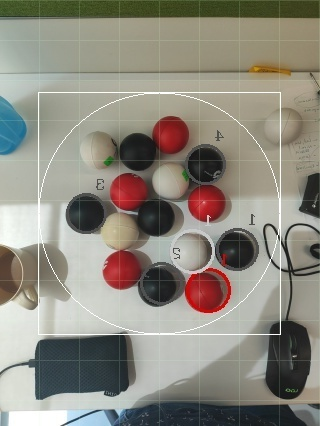Pelota blanca: (167, 230, 214, 272), (284, 222, 320, 275), (101, 209, 143, 251), (263, 105, 305, 147), (0, 95, 28, 158), (79, 129, 119, 171), (0, 244, 25, 307), (151, 161, 191, 200), (61, 409, 119, 425)
Pelota negra: (138, 260, 185, 307), (215, 225, 260, 272), (66, 190, 108, 235), (135, 198, 180, 238), (186, 142, 228, 184), (119, 132, 159, 171), (114, 403, 167, 425)
Pelota roja: (186, 268, 233, 315), (189, 182, 233, 224), (101, 249, 145, 291), (151, 113, 191, 155), (109, 172, 151, 211)
